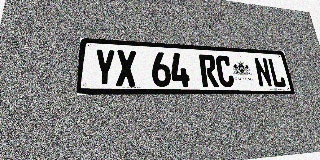4: (170, 53, 190, 87)
6: (151, 52, 172, 87)
C: (215, 55, 235, 87)
L: (267, 58, 287, 87)
N: (253, 57, 273, 87)
R: (199, 54, 219, 87)
X: (116, 50, 137, 87)
Y: (93, 49, 115, 86)
